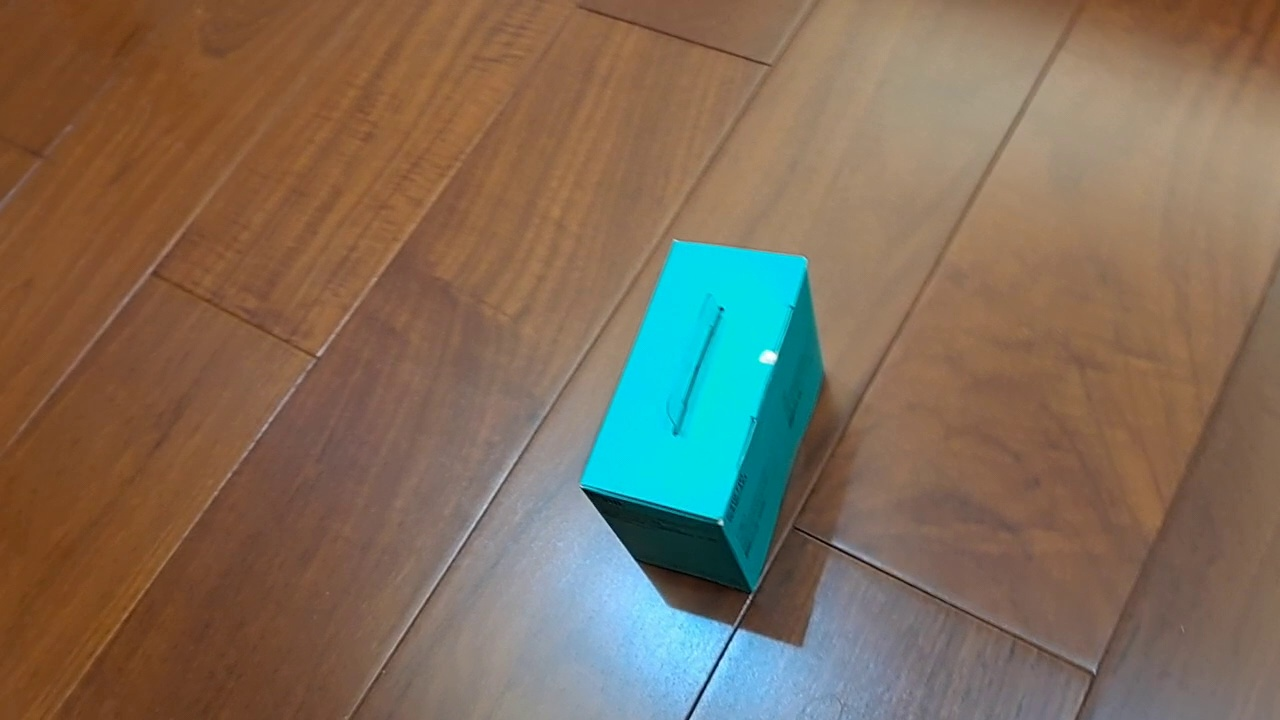webcam: (577, 236, 826, 596)
